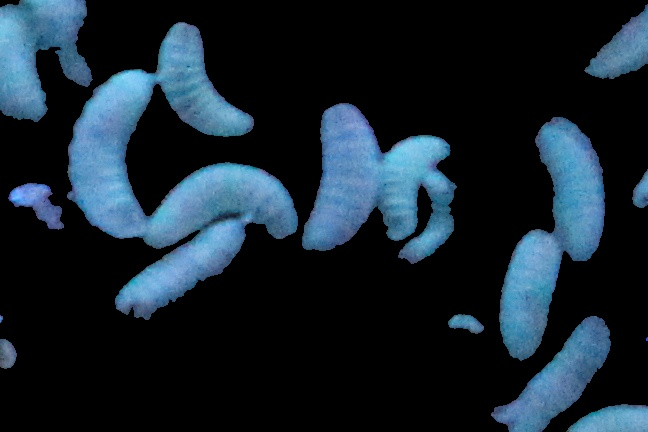larvae: (70, 66, 155, 238), (503, 312, 612, 432), (122, 219, 249, 317), (535, 118, 617, 264), (157, 166, 296, 252), (162, 28, 258, 137), (303, 105, 373, 250), (378, 135, 446, 239), (501, 236, 557, 354), (11, 1, 96, 67), (398, 169, 457, 262), (1, 18, 47, 128)
